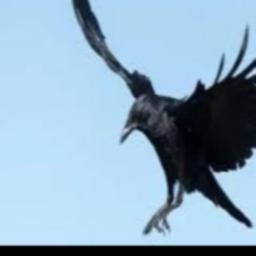Crow: (68, 0, 256, 239)
